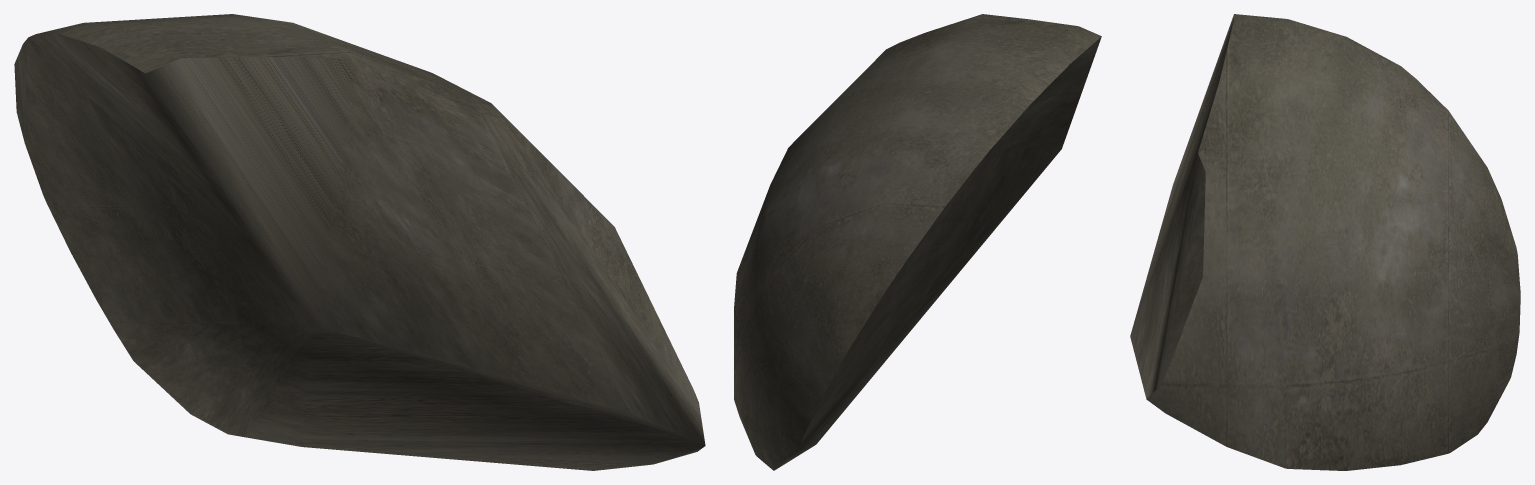
3 renders of one model, left to right at view 1: azimuth 30°, elevation 25°; view 2: azimuth 150°, elevation 25°; view 3: azimuth 270°, elevation 25°, orthographic. The views are drawn at different scales.
Parts seen in each view (by area): view 1: Sphere_cell.002; view 2: Sphere_cell.002; view 3: Sphere_cell.002.
Part boxes in pixels (bbox=[...]): Sphere_cell.002: bbox=[14, 14, 705, 470]; Sphere_cell.002: bbox=[734, 14, 1101, 470]; Sphere_cell.002: bbox=[1130, 14, 1520, 470].
Bounding box in the file's own units: 2.41 × 2.77 × 2.83.
1 material, 1 textured.
